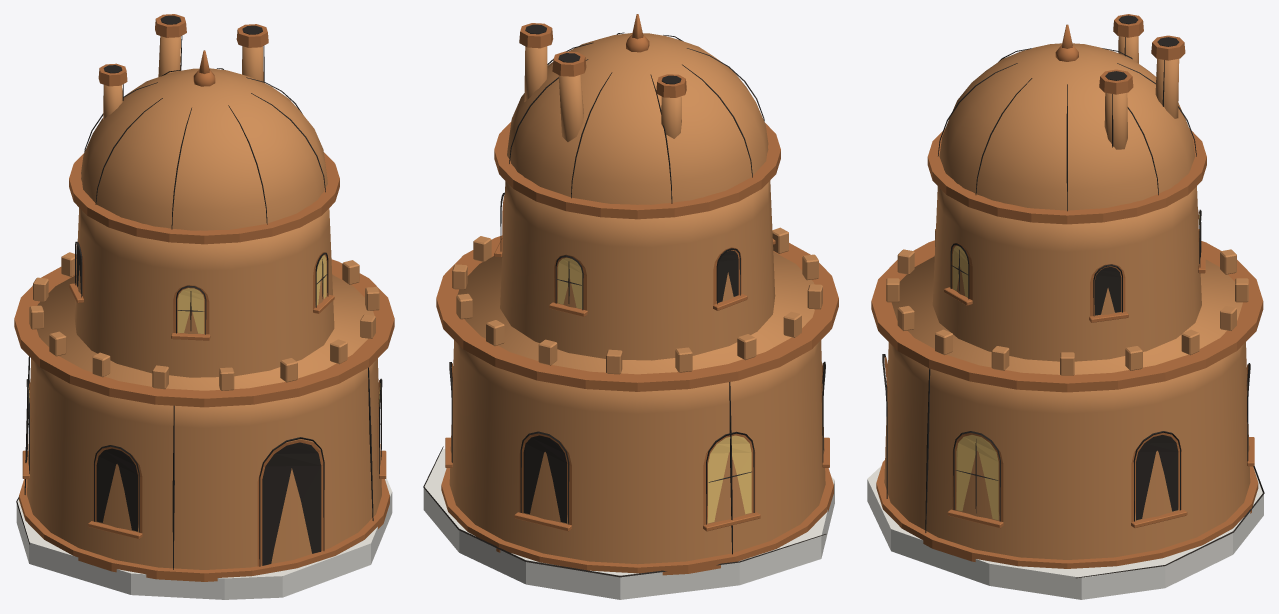
The model's file is Tower_Dome.fbx.
3 renders of one model, left to right at view 1: azimuth 30°, elevation 25°; view 2: azimuth 150°, elevation 25°; view 3: azimuth 270°, elevation 25°, orthographic. The views are drawn at different scales.
Visible parts, largest first — view 1: House, Lines; view 2: House, Lines; view 3: House, Lines.
Boxes of the visible parts, x1,y1,x2,y2 form: House: (14, 14, 394, 599); Lines: (16, 15, 382, 569); House: (423, 14, 838, 599); Lines: (423, 24, 826, 577); House: (867, 14, 1263, 599); Lines: (882, 15, 1264, 578).
Size of the model in its own units: 6.93 by 8.75 by 6.49.
